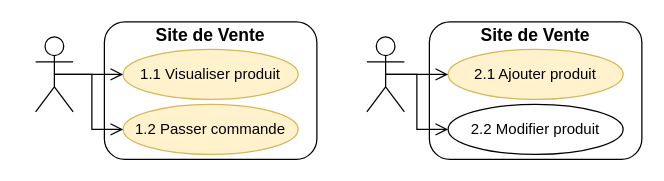
This 664x181 diagram has some shape labels left out. Each missing label, with the centre of its shape:
"Utilisateur" belongs at point 53,74.
"Vendeur" belongs at point 385,74.
